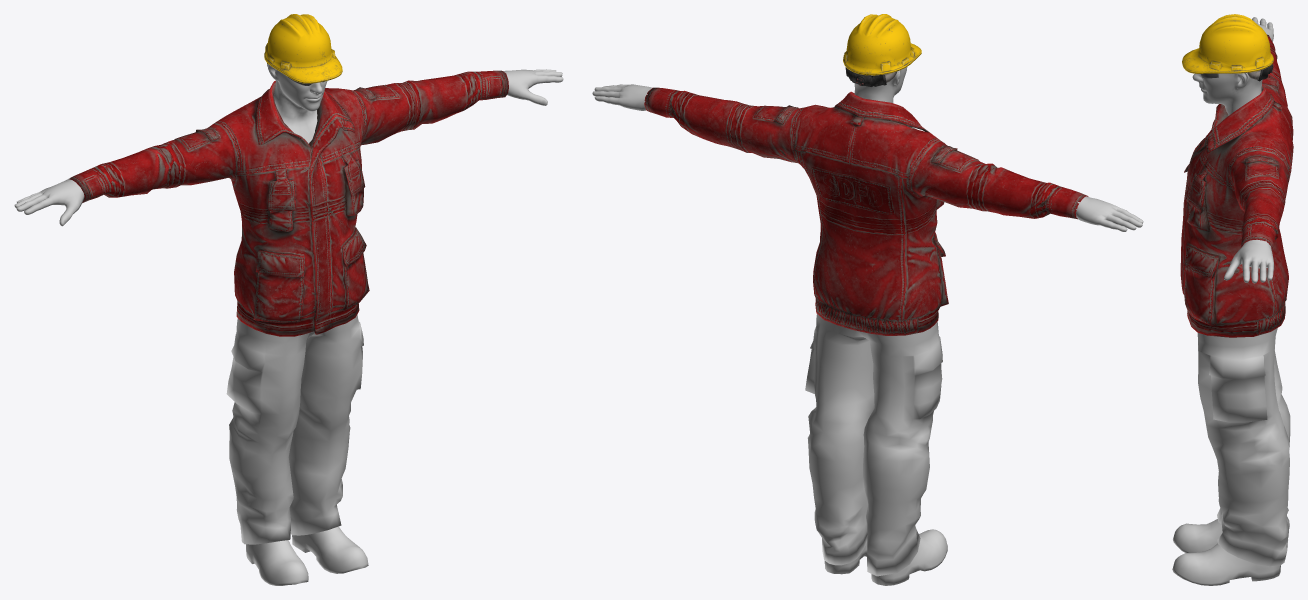
File: TranstrackWorker.obj
3 renders of one model, left to right at view 1: azimuth 30°, elevation 25°; view 2: azimuth 150°, elevation 25°; view 3: azimuth 270°, elevation 25°, orthographic.
Visible parts, largest first — view 1: Tops, Bottoms, Body, Shoes, Hats; view 2: Tops, Bottoms, Hats, Body, Shoes; view 3: Tops, Bottoms, Hats, Shoes, Body.
Part boxes in pixels (<box>): Tops: <box>69,70,508,336</box>; Bottoms: <box>226,314,363,544</box>; Body: <box>14,64,563,226</box>; Shoes: <box>246,526,368,585</box>; Hats: <box>264,14,342,83</box>; Tops: <box>644,87,1088,335</box>; Bottoms: <box>805,314,942,576</box>; Hats: <box>843,14,921,86</box>; Body: <box>592,67,1143,231</box>; Shoes: <box>824,529,947,585</box>; Tops: <box>1180,34,1293,337</box>; Bottoms: <box>1197,328,1290,566</box>; Hats: <box>1182,14,1273,81</box>; Shoes: <box>1172,519,1280,585</box>; Body: <box>1192,17,1273,283</box>.
Size of the model in its own units: 194 by 186 by 37.34.
